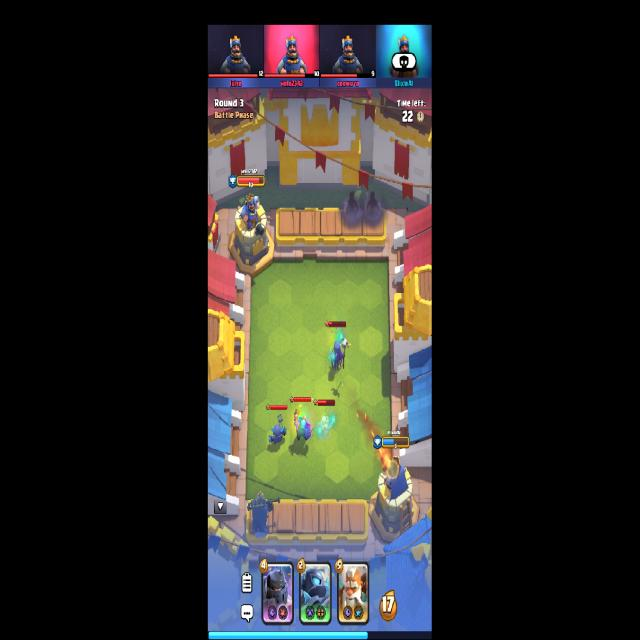card_mega_knight: (262, 562, 292, 625)
card_mini_pekka: (299, 561, 331, 624)
card_monk: (336, 560, 369, 626)
mini_pekka: (270, 414, 286, 445)
peka: (294, 409, 314, 443)
royal_ghost: (318, 410, 336, 439)
skeleton_king: (247, 493, 280, 535)
witch: (328, 336, 348, 374)
